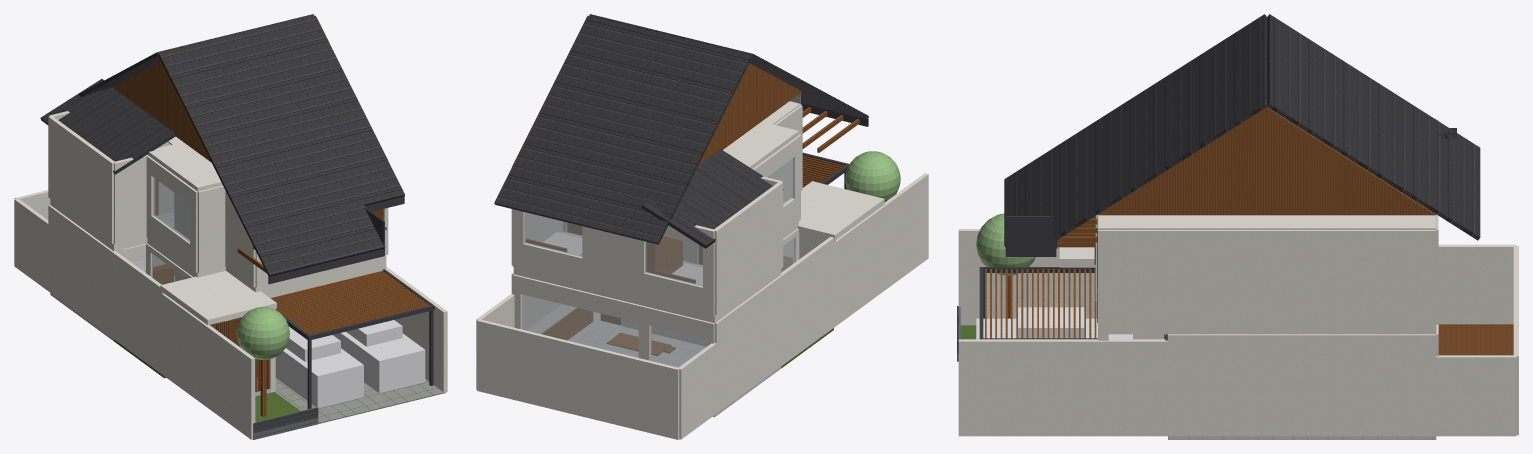
The model's file is tipe-118.glb.
The picture shows the model from 3 angles, left to right: view 1: azimuth 30°, elevation 25°; view 2: azimuth 150°, elevation 25°; view 3: azimuth 270°, elevation 25°; orthographic projection. The views are drawn at different scales.
Parts seen in each view (by area): view 1: balok-depan, atap-belakang, gable-2.4, mobil-2.8, kanopi-balok-depan, carport-lantai, pohon-tajuk, clerestory-belakang, L1-dinding-6-batu.1, rumput-belakang, L1-pelat; view 2: balok-depan, atap-belakang, clerestory-belakang, gable-2.4, L1-pelat, pohon-tajuk, L1-kloset, kanopi-balok-depan, L1-dapur-top; view 3: balok-depan, atap-belakang, gable-2.4, kanopi-balok-depan, mobil-2.8, deck, pohon-tajuk, L1-pelat.
Boxes of the visible parts, bbox=[...] form: balok-depan: bbox=[14, 111, 447, 439]; atap-belakang: bbox=[40, 14, 404, 276]; gable-2.4: bbox=[112, 17, 430, 416]; mobil-2.8: bbox=[275, 320, 425, 408]; kanopi-balok-depan: bbox=[268, 196, 434, 408]; carport-lantai: bbox=[274, 378, 445, 423]; pohon-tajuk: bbox=[236, 307, 289, 359]; clerestory-belakang: bbox=[133, 177, 189, 284]; L1-dinding-6-batu.1: bbox=[253, 407, 318, 439]; rumput-belakang: bbox=[114, 339, 299, 439]; L1-pelat: bbox=[50, 212, 270, 396]; balok-depan: bbox=[476, 101, 928, 439]; atap-belakang: bbox=[494, 14, 868, 248]; clerestory-belakang: bbox=[521, 93, 800, 367]; gable-2.4: bbox=[512, 17, 859, 355]; L1-pelat: bbox=[562, 232, 781, 417]; pohon-tajuk: bbox=[845, 151, 900, 202]; L1-kloset: bbox=[543, 232, 702, 285]; kanopi-balok-depan: bbox=[791, 101, 868, 189]; L1-dapur-top: bbox=[527, 304, 576, 333]; balok-depan: bbox=[958, 118, 1518, 436]; atap-belakang: bbox=[1004, 14, 1480, 248]; gable-2.4: bbox=[985, 107, 1436, 338]; kanopi-balok-depan: bbox=[979, 216, 1165, 339]; mobil-2.8: bbox=[976, 307, 1132, 339]; deck: bbox=[1438, 324, 1513, 355]; pohon-tajuk: bbox=[976, 213, 1035, 275]; L1-pelat: bbox=[1168, 436, 1436, 439].
Size of the model in its own units: 7.68 by 10.64 by 16.12.
14 materials, 8 textured.
